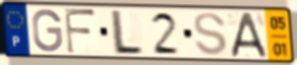2: (149, 11, 181, 56)
A: (229, 11, 270, 59)
F: (63, 7, 99, 56)
G: (31, 7, 65, 54)
L: (111, 8, 145, 57)
S: (192, 11, 230, 58)
